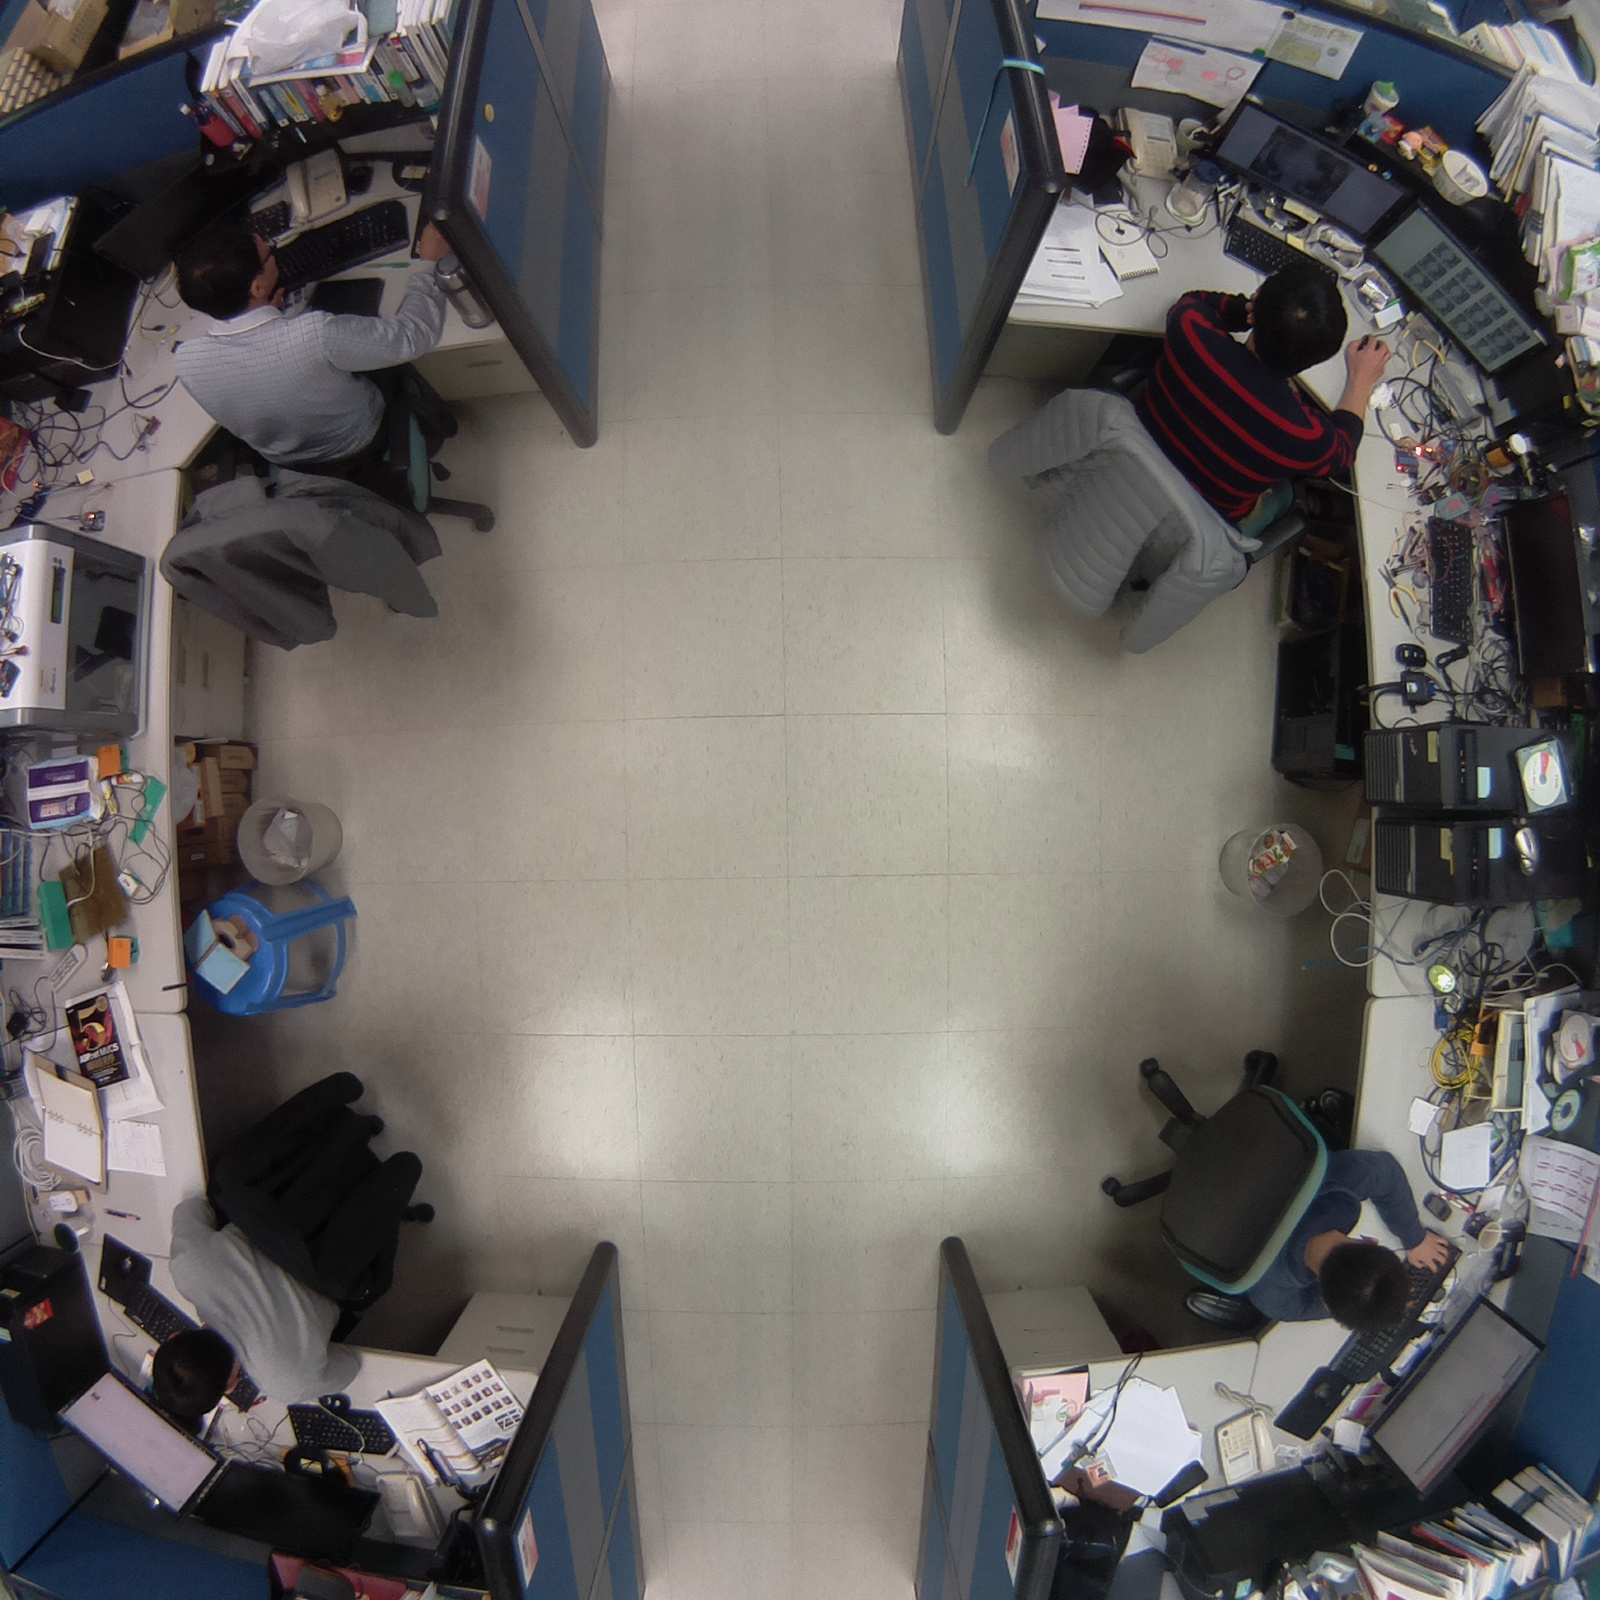head: (166, 210, 285, 321), (1242, 263, 1353, 376), (142, 1314, 251, 1425), (1315, 1231, 1417, 1340)
sitting: (973, 258, 1385, 675), (155, 204, 512, 675), (1063, 1024, 1451, 1338), (130, 1040, 447, 1423)
